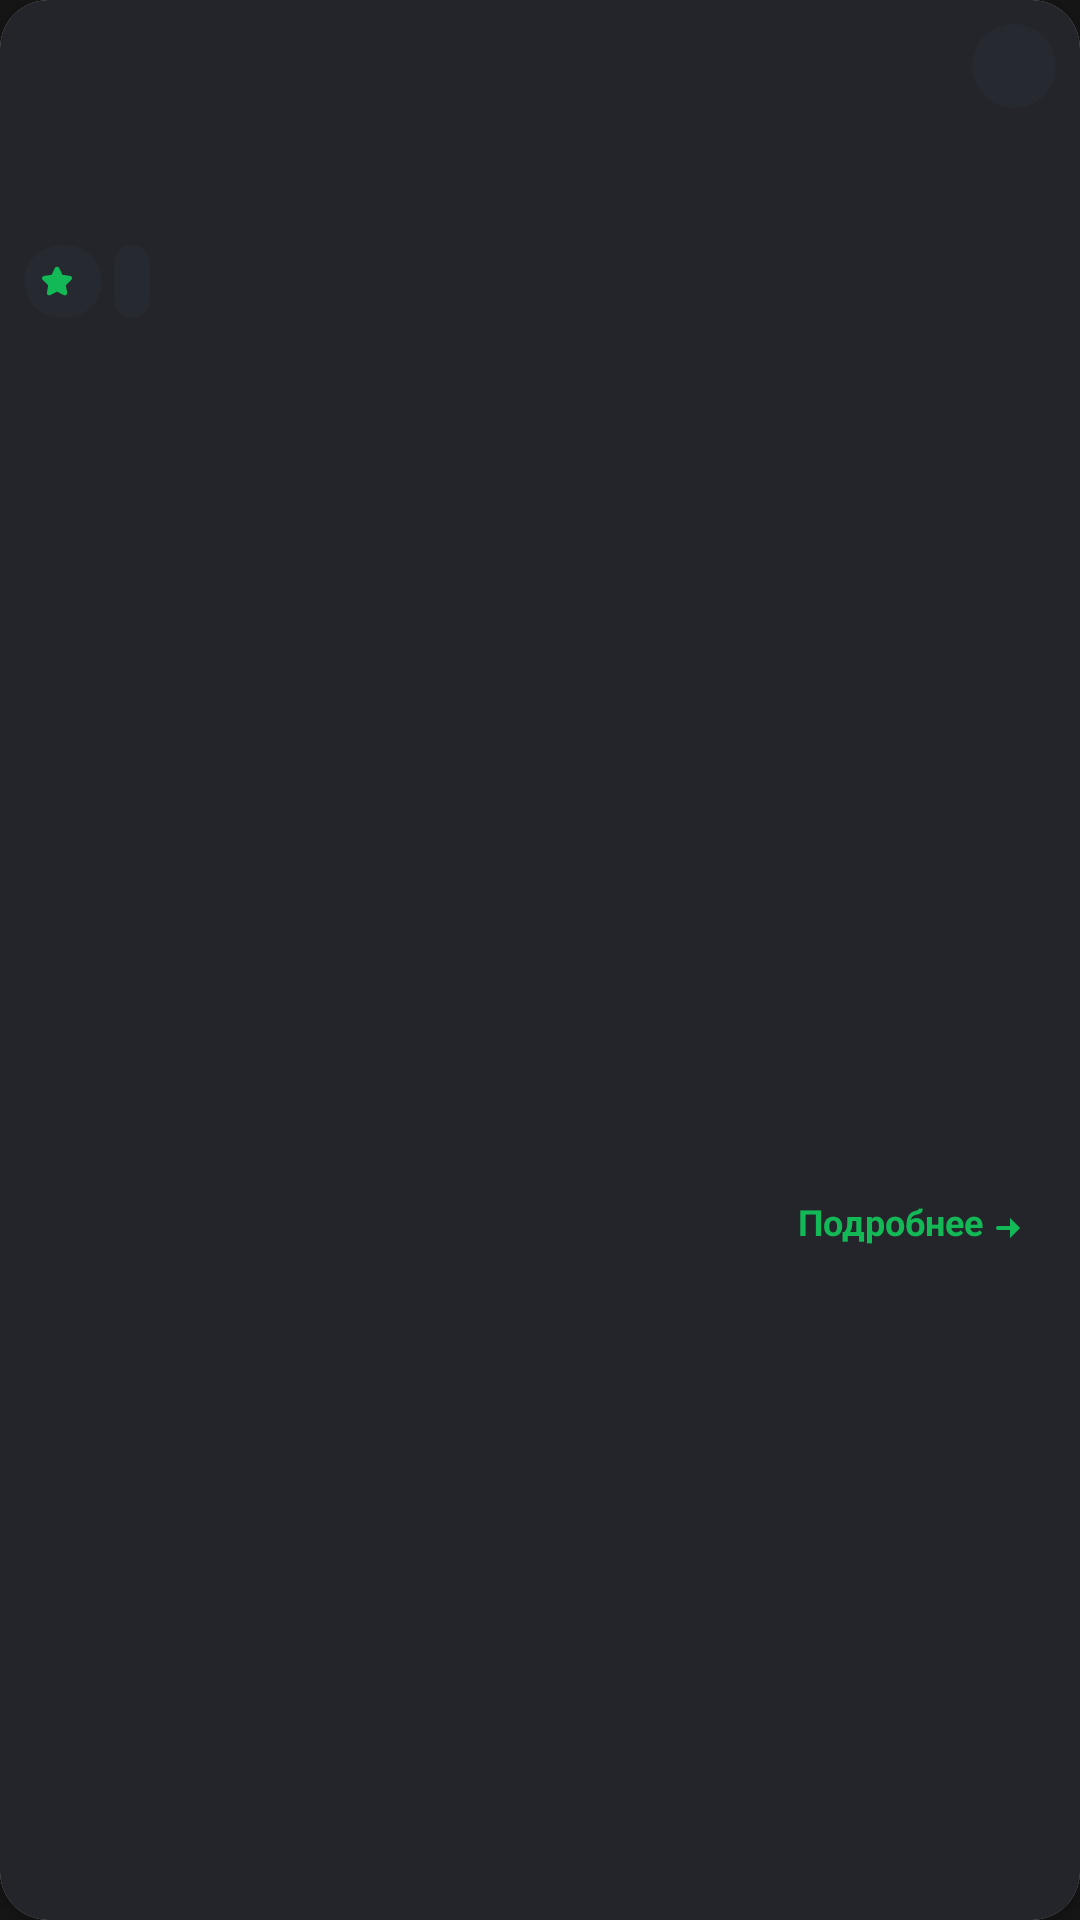

Named icons in this screenshot (1080 x 1920) and their bounding boxes, (left=x1, top=y1, right=x2, bottom=y2):
Звезда: (left=42, top=266, right=72, bottom=296)
